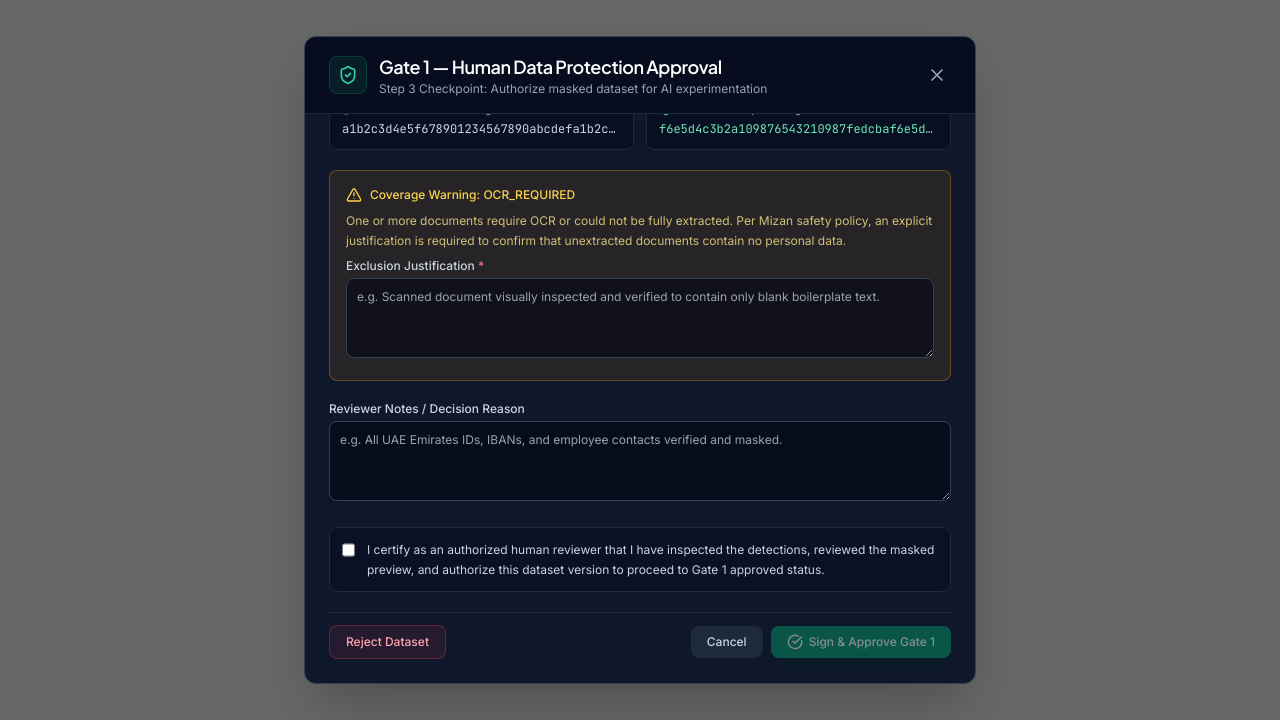
it: Gate1ApprovalModal › requires override justification when coverage is OCR_REQUIRED
(page scrolled)
Expected: the text "Coverage Warning: OCR_REQUIRED" is shown, x1=370 y1=187 x2=575 y2=203
// Check certification checkbox
What coordinates should you click on to do the following:
click the checkbox
I would click on:
 (348, 550)
Its box is x1=342 y1=542 x2=355 y2=558.
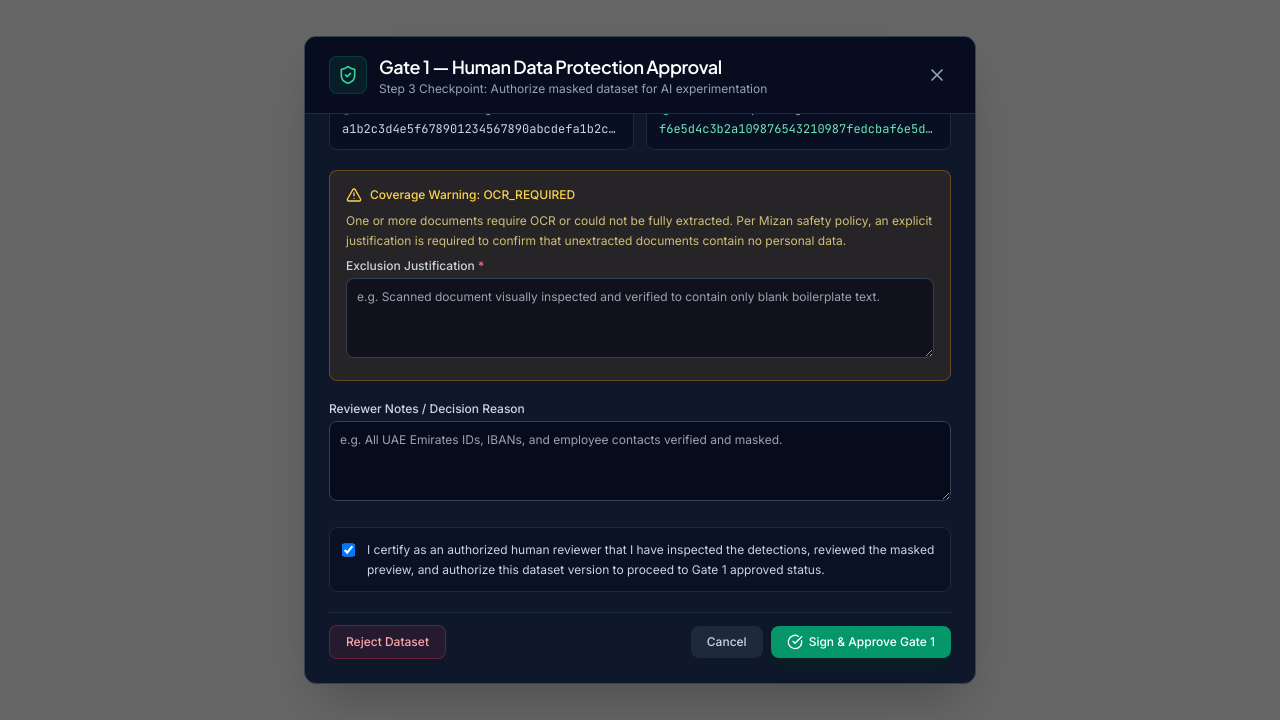
// Click approve without filling override reason
What coordinates should you click on to do the following:
click the button "Sign & Approve Gate 1"
I would click on:
 (861, 642)
Its box is x1=771 y1=626 x2=951 y2=658.
(page scrolled)
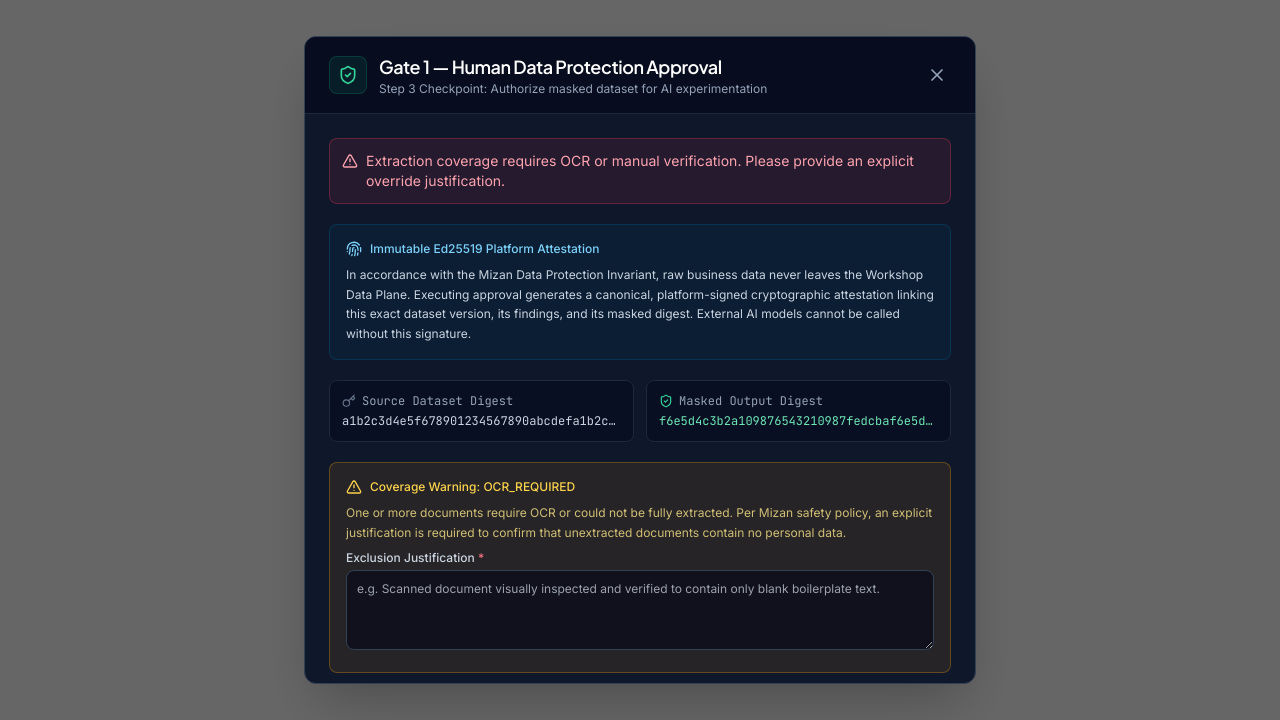
Expected: the text "Extraction coverage requires OCR or manual verification" is shown, x1=366 y1=152 x2=914 y2=189
